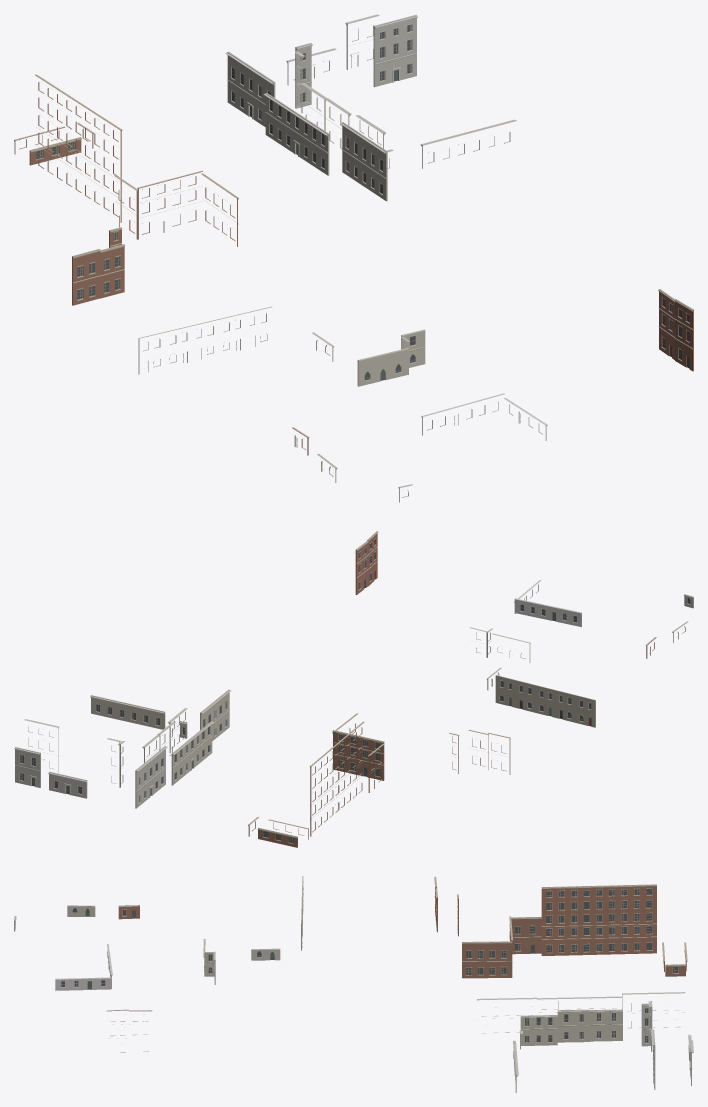
The picture shows the model from 3 angles, top to bottom: view 1: azimuth 30°, elevation 25°; view 2: azimuth 150°, elevation 25°; view 3: azimuth 270°, elevation 25°; orthographic projection. The views are drawn at different scales.
Visible parts, largest first — view 1: f:relation/1950099, f:way/98523434, f:way/139285983, f:way/133762413, f:way/26194150; view 2: f:way/139285983, f:relation/1950099, f:way/98523434, f:way/133762465, f:way/1270874293, f:way/26194150; view 3: f:relation/1950099, f:way/139285983, f:way/98523434, f:way/1270874293, f:way/133762413, f:way/133762414.
Boxes of the visible parts, <box> form: f:relation/1950099: <box>14,74,238,305</box>; f:way/98523434: <box>225,14,417,126</box>; f:way/139285983: <box>263,83,516,201</box>; f:way/133762413: <box>312,329,425,386</box>; f:way/26194150: <box>658,289,693,371</box>; f:way/139285983: <box>90,689,231,785</box>; f:relation/1950099: <box>248,713,510,847</box>; f:way/98523434: <box>14,719,167,808</box>; f:way/133762465: <box>495,675,595,727</box>; f:way/1270874293: <box>514,580,581,626</box>; f:way/26194150: <box>355,531,378,594</box>; f:relation/1950099: <box>434,876,687,978</box>; f:way/139285983: <box>477,996,622,1092</box>; f:way/98523434: <box>622,992,693,1089</box>; f:way/1270874293: <box>55,944,112,990</box>; f:way/133762413: <box>203,939,280,984</box>; f:way/133762414: <box>14,905,95,931</box>.
Size of the model in its own units: 106 by 18.3 by 163.
